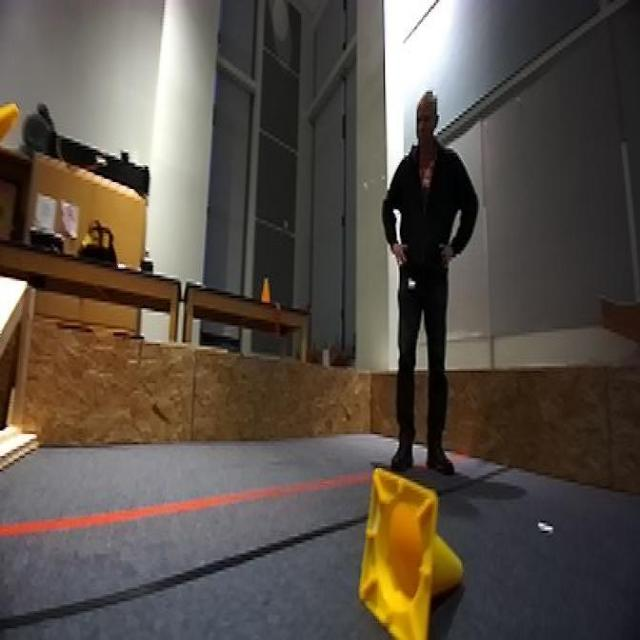frc_cone: (355, 470, 461, 640), (0, 97, 23, 186)
